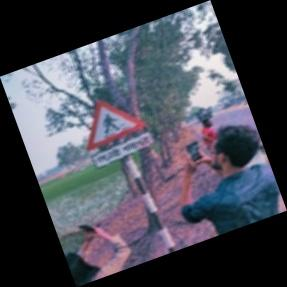Pedestrian-crossing: (86, 98, 154, 169)
